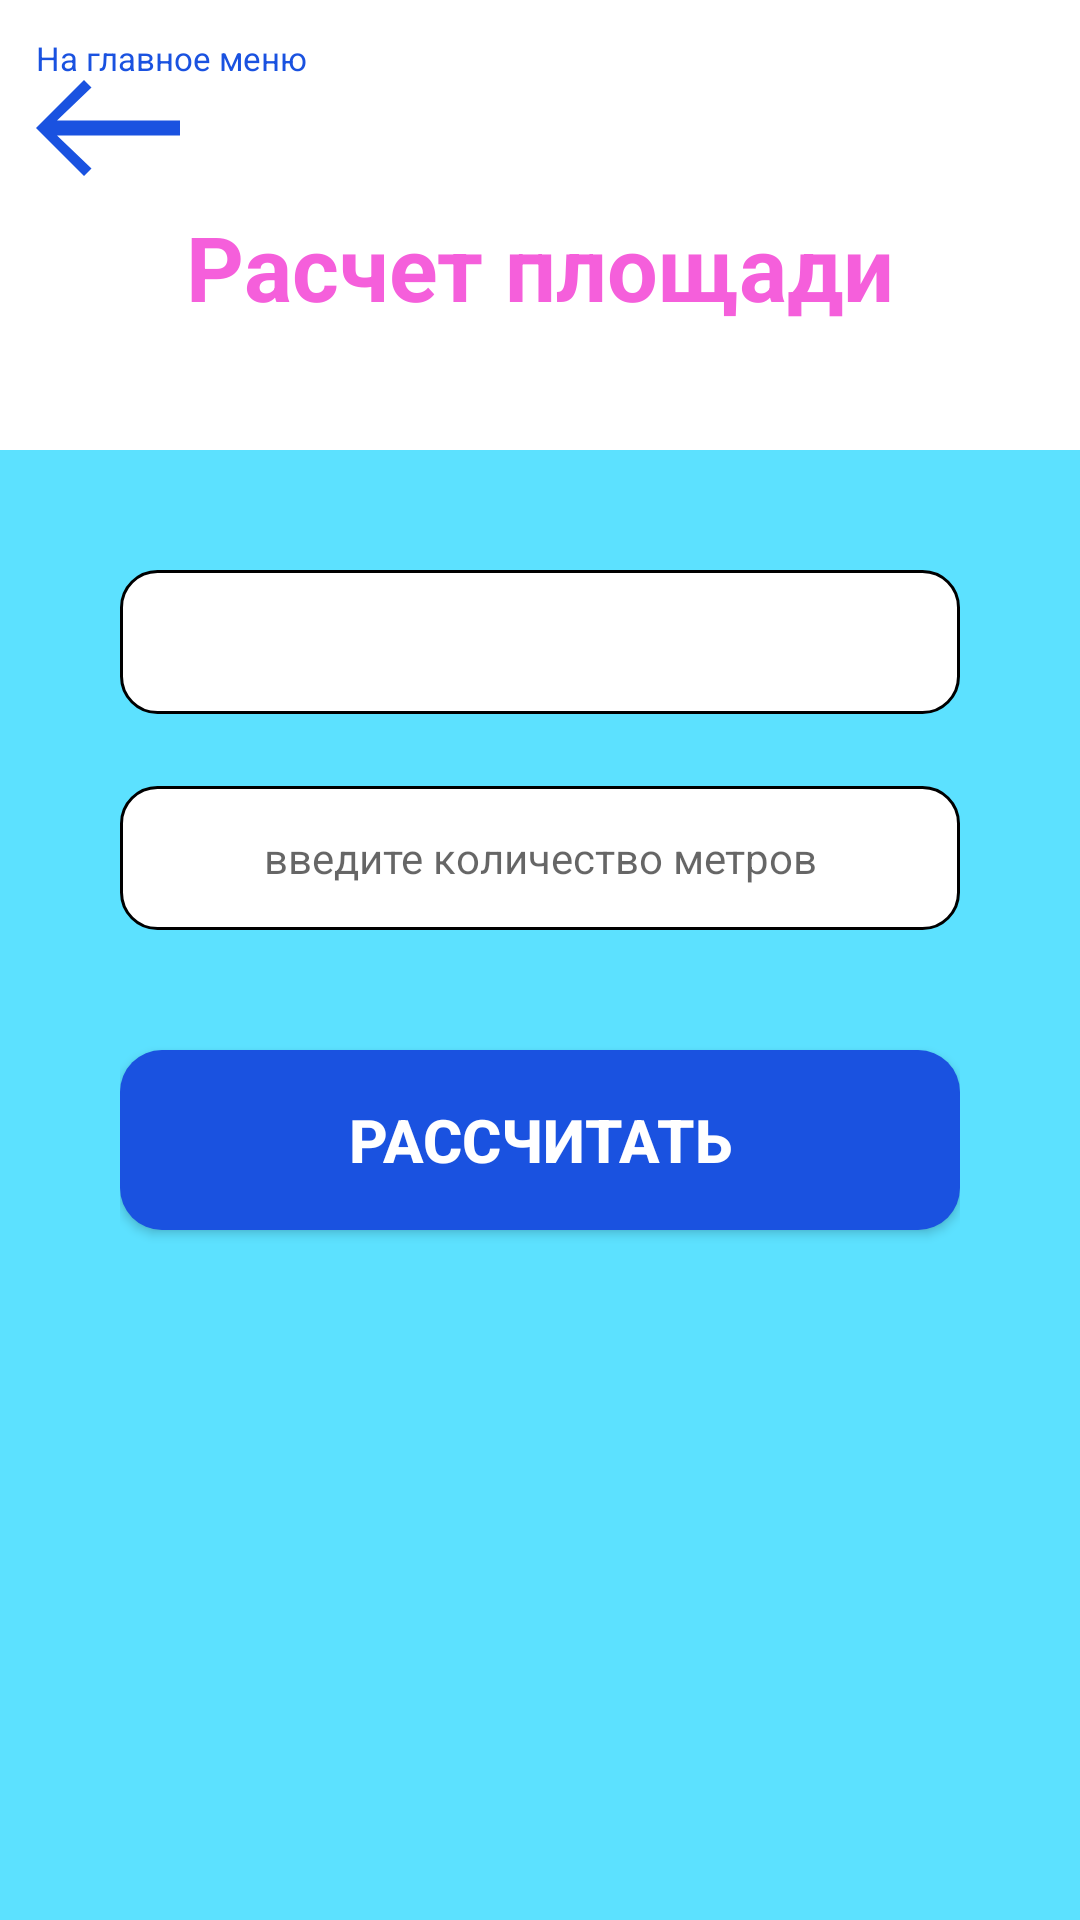

Icons on this 1080 x 1920 Android screen, each with its box as (x1, y1, x2, y2):
back: (36, 80, 180, 176)
